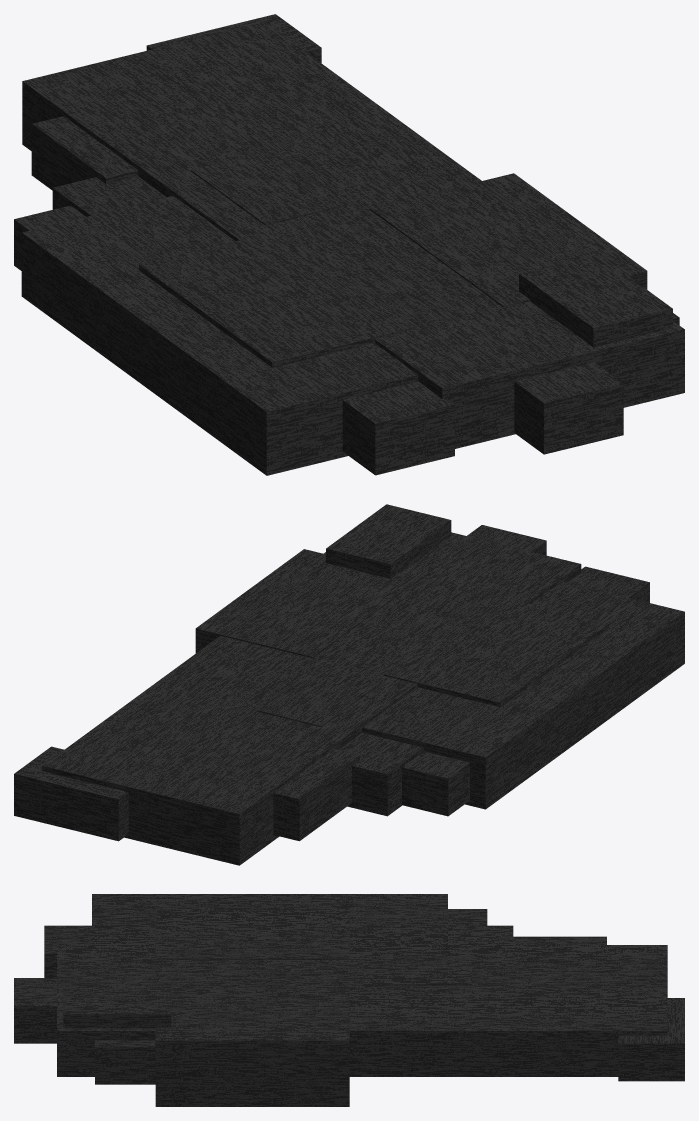
The model's file is Platform1.fbx.
3 renders of one model, top to bottom at view 1: azimuth 30°, elevation 25°; view 2: azimuth 150°, elevation 25°; view 3: azimuth 270°, elevation 25°, orthographic. The views are drawn at different scales.
Parts seen in each view (by area): view 1: Cube.010, Cube.028, Cube.033, Cube.037, Cube.034, Cube.035, Cube.036, Cube.039, Cube.031, Cube.029, Cube.032, Cube.030; view 2: Cube.010, Cube.028, Cube.033, Cube.037, Cube.032, Cube.034, Cube.031, Cube.029, Cube.039, Cube.030, Cube.035, Cube.036; view 3: Cube.010, Cube.037, Cube.028, Cube.033, Cube.034, Cube.032, Cube.039, Cube.036, Cube.040, Cube.035, Cube.029, Cube.031 (+1 smaller).
Boxes of the visible parts, bbox=[...] form: Cube.010: bbox=[22, 22, 684, 448]; Cube.028: bbox=[21, 195, 418, 475]; Cube.033: bbox=[139, 229, 416, 367]; Cube.037: bbox=[370, 173, 647, 307]; Cube.034: bbox=[519, 254, 672, 347]; Cube.035: bbox=[342, 381, 454, 475]; Cube.036: bbox=[514, 362, 623, 454]; Cube.039: bbox=[191, 150, 344, 225]; Cube.031: bbox=[31, 116, 138, 190]; Cube.029: bbox=[52, 176, 166, 216]; Cube.032: bbox=[146, 14, 321, 63]; Cube.030: bbox=[14, 205, 85, 270]; Cube.010: bbox=[42, 532, 581, 865]; Cube.028: bbox=[362, 581, 684, 809]; Cube.033: bbox=[383, 595, 609, 707]; Cube.037: bbox=[195, 549, 421, 658]; Cube.032: bbox=[14, 746, 128, 841]; Cube.034: bbox=[326, 504, 451, 578]; Cube.031: bbox=[273, 749, 359, 841]; Cube.029: bbox=[339, 732, 423, 816]; Cube.039: bbox=[256, 666, 381, 726]; Cube.030: bbox=[402, 751, 469, 816]; Cube.035: bbox=[567, 566, 649, 602]; Cube.036: bbox=[467, 525, 546, 555]; Cube.010: bbox=[57, 945, 667, 1076]; Cube.037: bbox=[155, 989, 349, 1106]; Cube.028: bbox=[92, 894, 447, 944]; Cube.033: bbox=[155, 907, 349, 959]; Cube.034: bbox=[63, 986, 171, 1028]; Cube.032: bbox=[618, 998, 684, 1081]; Cube.039: bbox=[363, 956, 471, 985]; Cube.036: bbox=[14, 978, 56, 1043]; Cube.040: bbox=[95, 1040, 155, 1084]; Cube.035: bbox=[44, 925, 91, 977]; Cube.029: bbox=[448, 925, 513, 944]; Cube.031: bbox=[499, 936, 606, 944].
Size of the model in its own units: 1400 by 344 by 2638.
